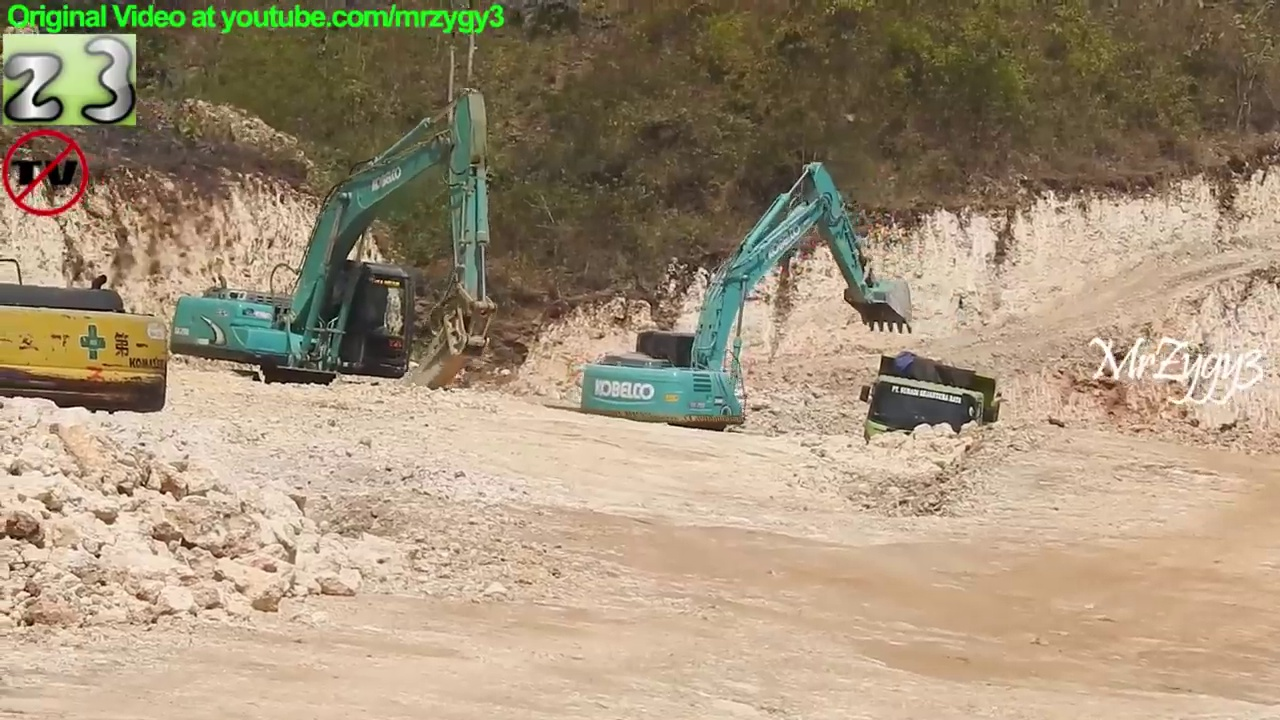excavator: (167, 79, 506, 427), (572, 157, 917, 455), (1, 252, 175, 423), (855, 347, 1010, 495)
